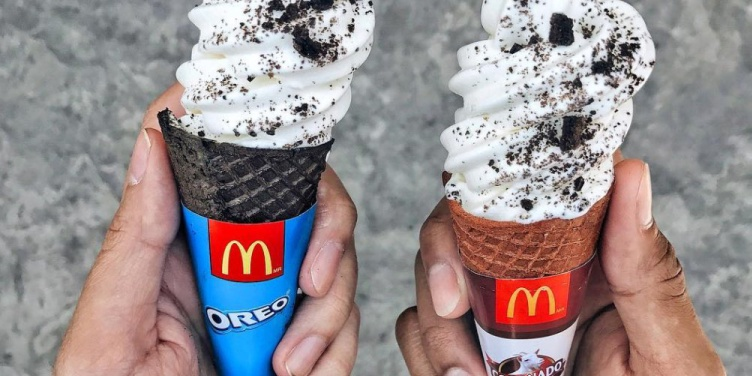mcdonalds: (214, 229, 279, 286), (495, 278, 566, 330)
